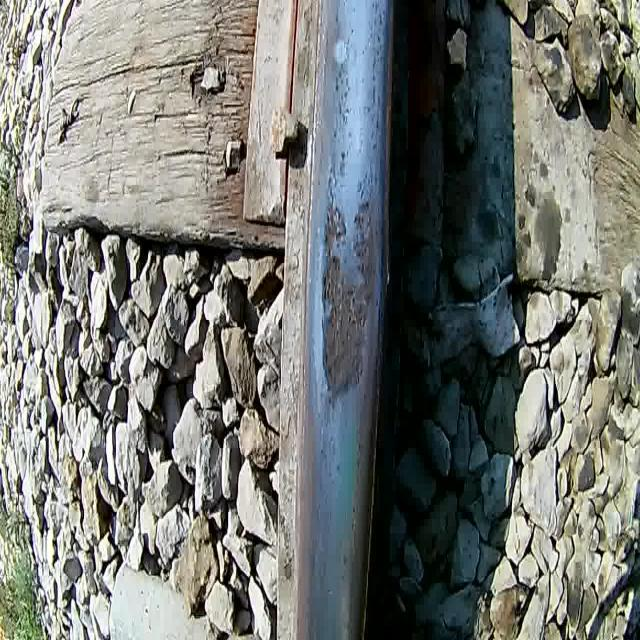Spallings: (322, 201, 368, 346)
Squats: (314, 158, 382, 417)
